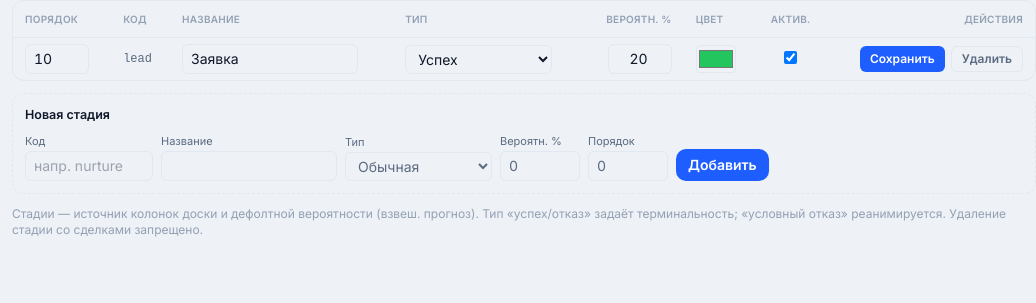
DealStageEditor › правка названия и «Сохранить» шлёт updateStage с новым значением и показывает подтверждение
Replace the text in the field showing "Заявка" with "Первичка": point(270, 59) left=182, top=44, right=358, bottom=74
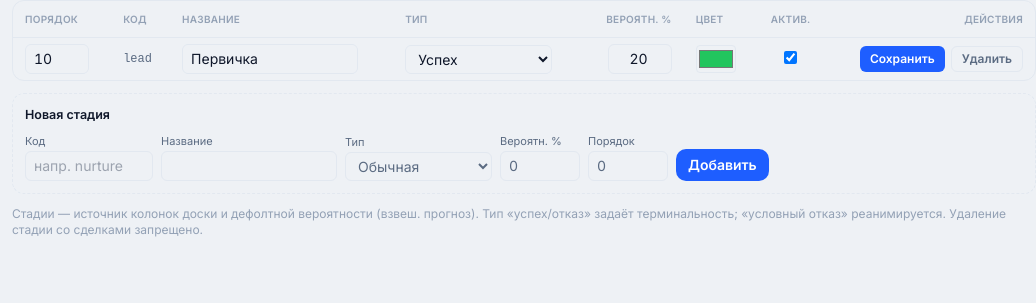
Click the button "Сохранить": point(902, 59) left=860, top=46, right=945, bottom=72
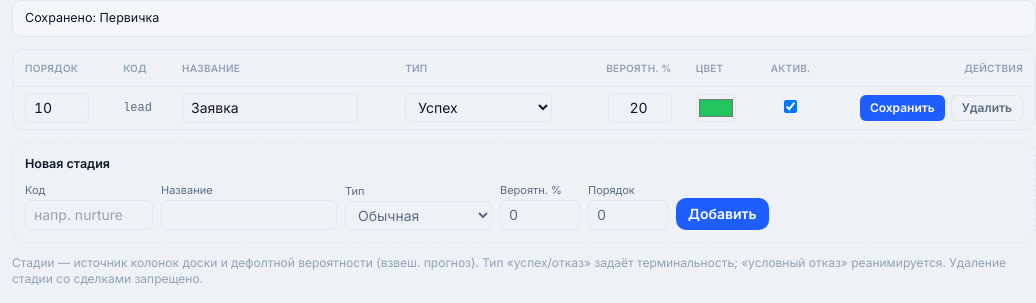
Check: the text "Сохранено: Первичка" is shown, box left=12, top=0, right=1035, bottom=37
